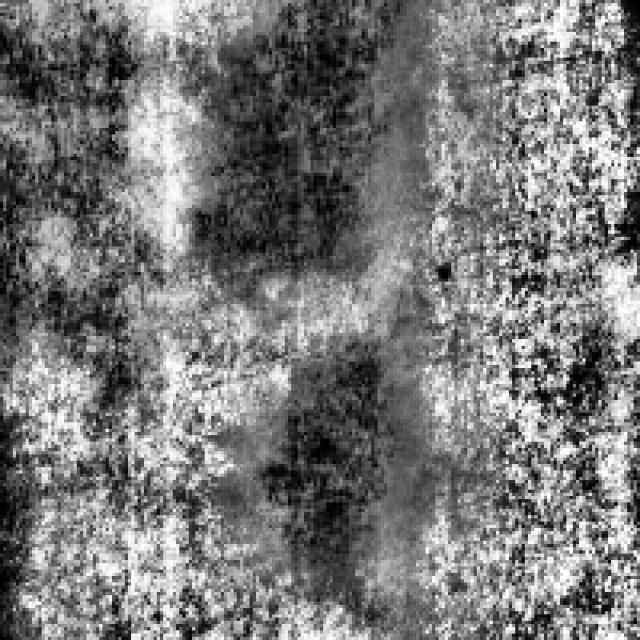Scratches: (188, 0, 422, 278), (0, 0, 154, 330), (224, 316, 416, 570)
